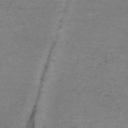finishing roll printing: (26, 0, 70, 128)
